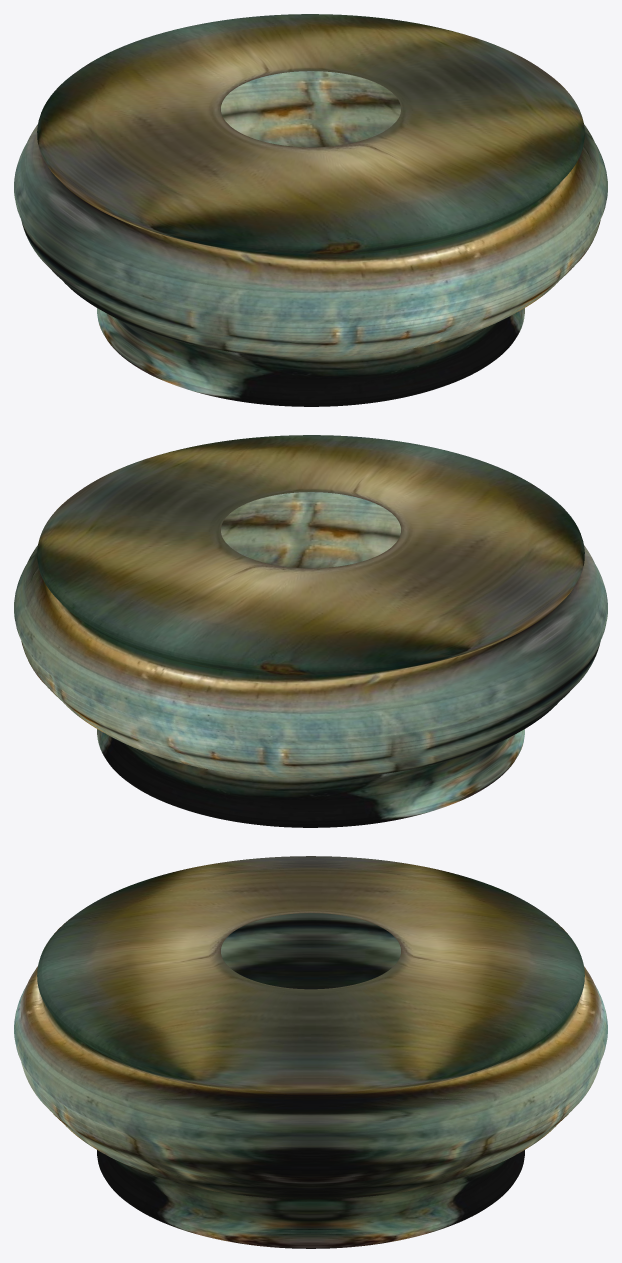
Rendered from cma-97667.glb.
3 renders of one model, top to bottom at view 1: azimuth 30°, elevation 25°; view 2: azimuth 150°, elevation 25°; view 3: azimuth 270°, elevation 25°, orthographic.
Visible parts, largest first — view 1: geometry_0; view 2: geometry_0; view 3: geometry_0.
Boxes of the visible parts, x1,y1,x2,y2 form: geometry_0: [14, 14, 607, 406]; geometry_0: [14, 435, 607, 827]; geometry_0: [14, 856, 607, 1248].
Bounding box in the file's own units: 74.93 × 30 × 74.93.
Materials: 1 (1 with a texture image).
